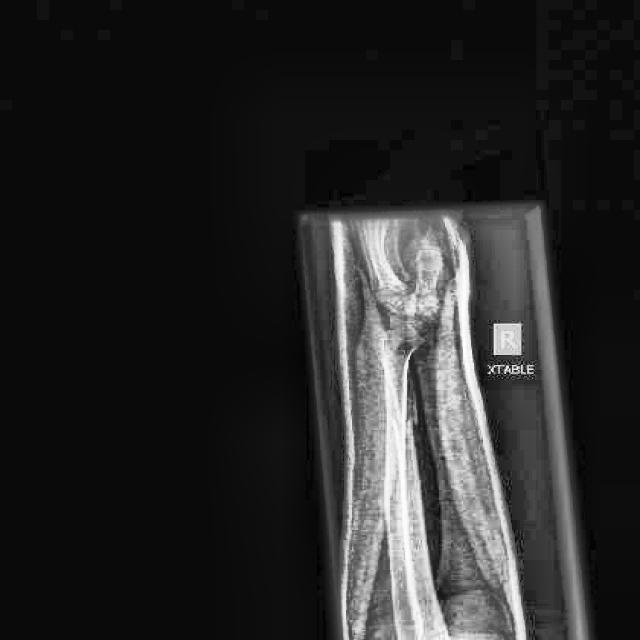forearm fracture: (369, 387, 438, 455)
